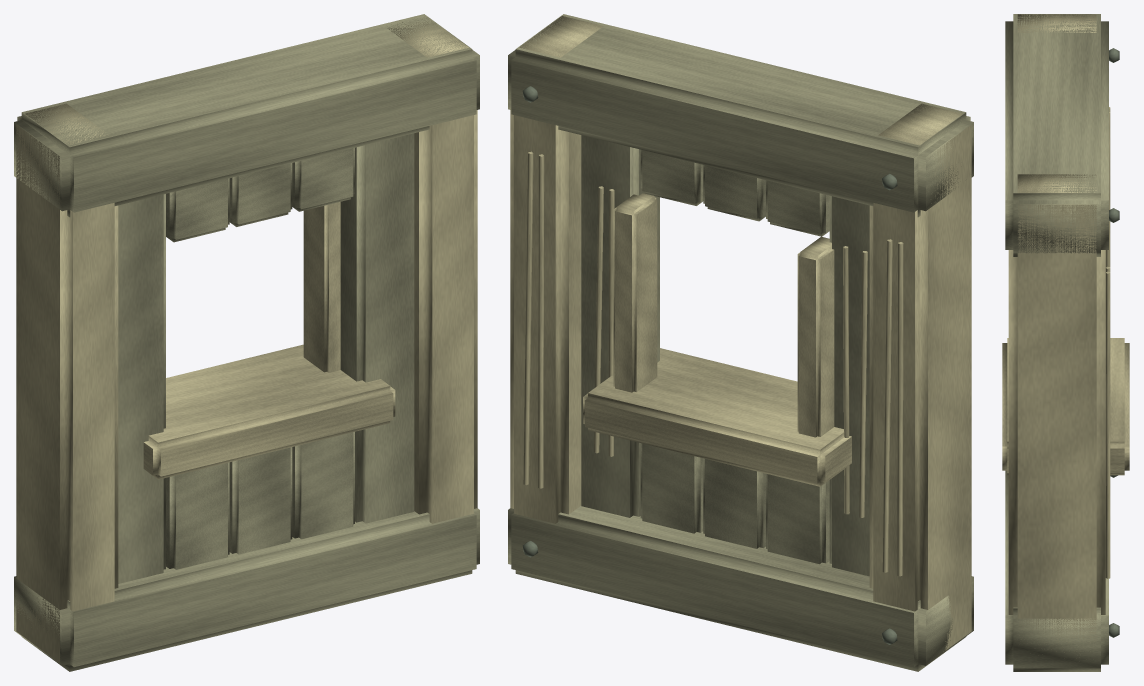
Rendered from window-wall-2.fbx.
3 renders of one model, left to right at view 1: azimuth 30°, elevation 25°; view 2: azimuth 150°, elevation 25°; view 3: azimuth 270°, elevation 25°, orthographic. The views are drawn at different scales.
Visible parts, largest first — view 1: window-wall-2__Geometry; view 2: window-wall-2__Geometry; view 3: window-wall-2__Geometry.
Boxes of the visible parts, left/top/right/bottom form: window-wall-2__Geometry: left=14, top=14, right=479, bottom=671; window-wall-2__Geometry: left=508, top=14, right=973, bottom=671; window-wall-2__Geometry: left=1002, top=14, right=1129, bottom=671.
Bounding box in the file's own units: 1 × 1.2 × 0.29.
Materials: 1 (1 with a texture image).
